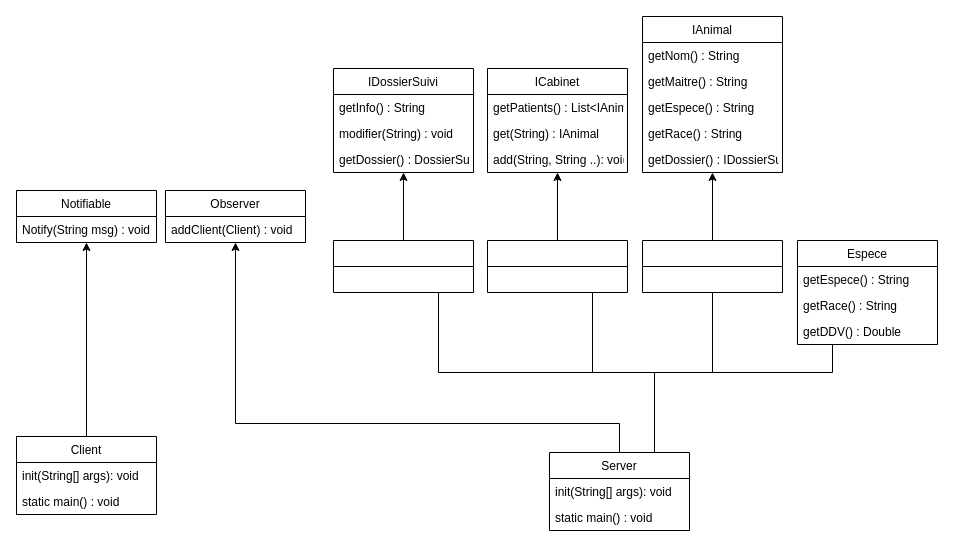
The diagram is 954 pixels wide and 547 high, and some of its shapes have lost their labels. The centre of each missing label's shape, as x and y in pixels:
"Animal" goes at (712,266).
"Cabinet" goes at (557,266).
"DossierSuivi" goes at (403,266).
